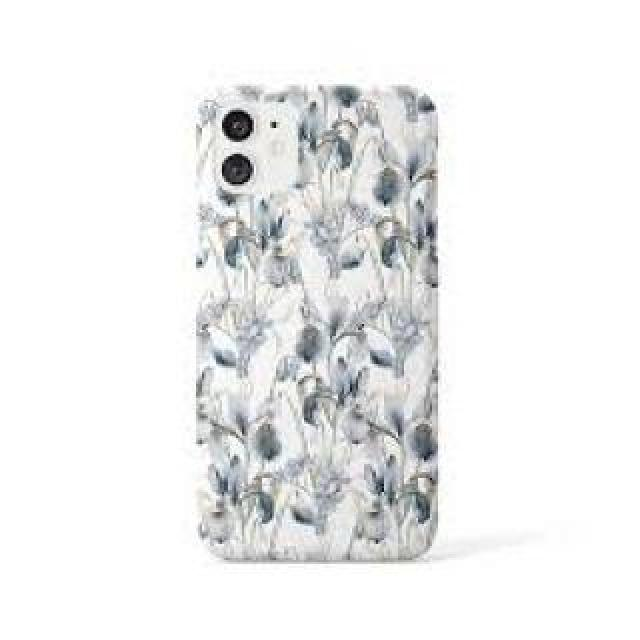smart phone: (205, 55, 477, 597)
